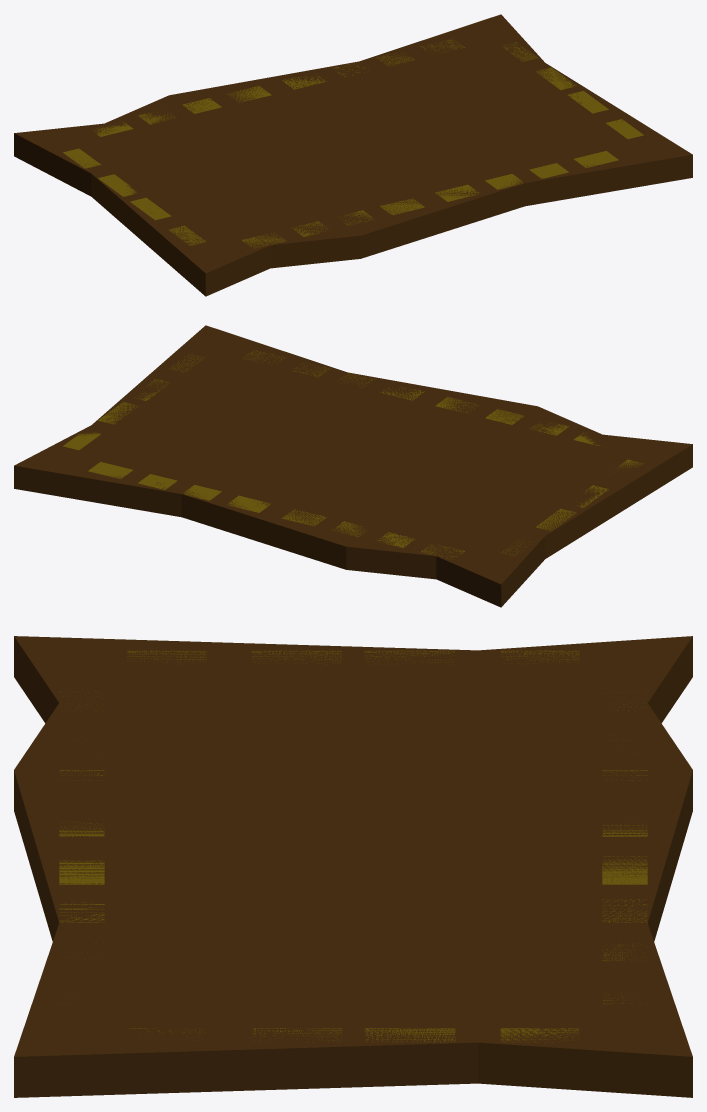
File: model_loc_916_0.obj
The picture shows the model from 3 angles, top to bottom: view 1: azimuth 30°, elevation 25°; view 2: azimuth 150°, elevation 25°; view 3: azimuth 270°, elevation 25°; orthographic projection. The views are drawn at different scales.
Parts seen in each view (by area): view 1: 1113; view 2: 1113; view 3: 1113.
Part boxes in pixels (<box>): 1113: <box>14,14,692,296</box>; 1113: <box>14,325,692,607</box>; 1113: <box>14,636,692,1097</box>.
Size of the model in its own units: 88 by 4 by 60.
